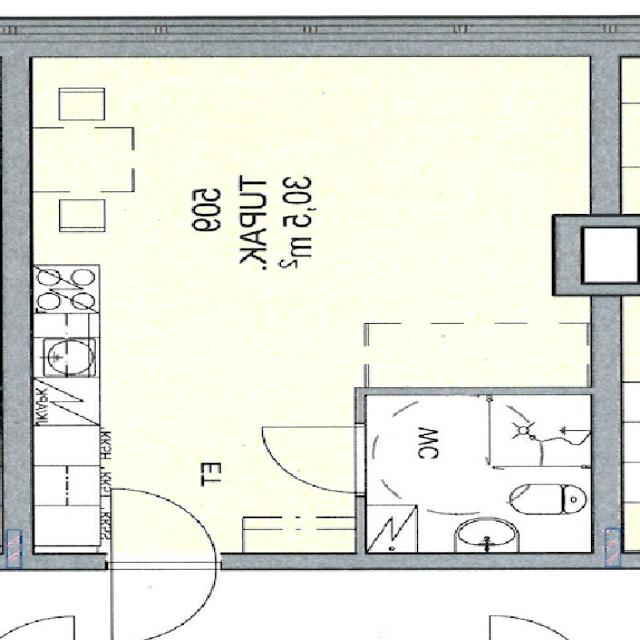door: (111, 487, 218, 569), (111, 561, 218, 640), (263, 426, 367, 492)
